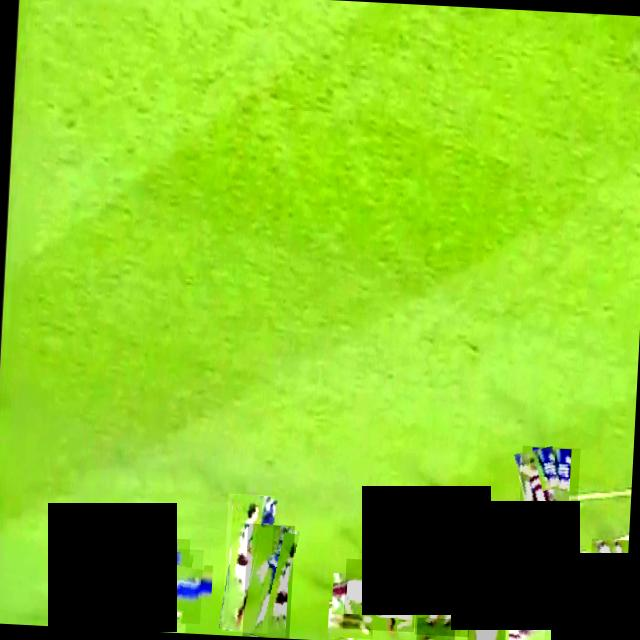soccer-player: (515, 446, 581, 596), (415, 490, 476, 638), (222, 494, 274, 634), (242, 524, 296, 638), (127, 546, 204, 624), (342, 558, 418, 632), (586, 538, 629, 640), (504, 549, 549, 640), (467, 575, 509, 640), (329, 597, 372, 640), (516, 611, 558, 640), (416, 617, 455, 640), (77, 618, 106, 630)
